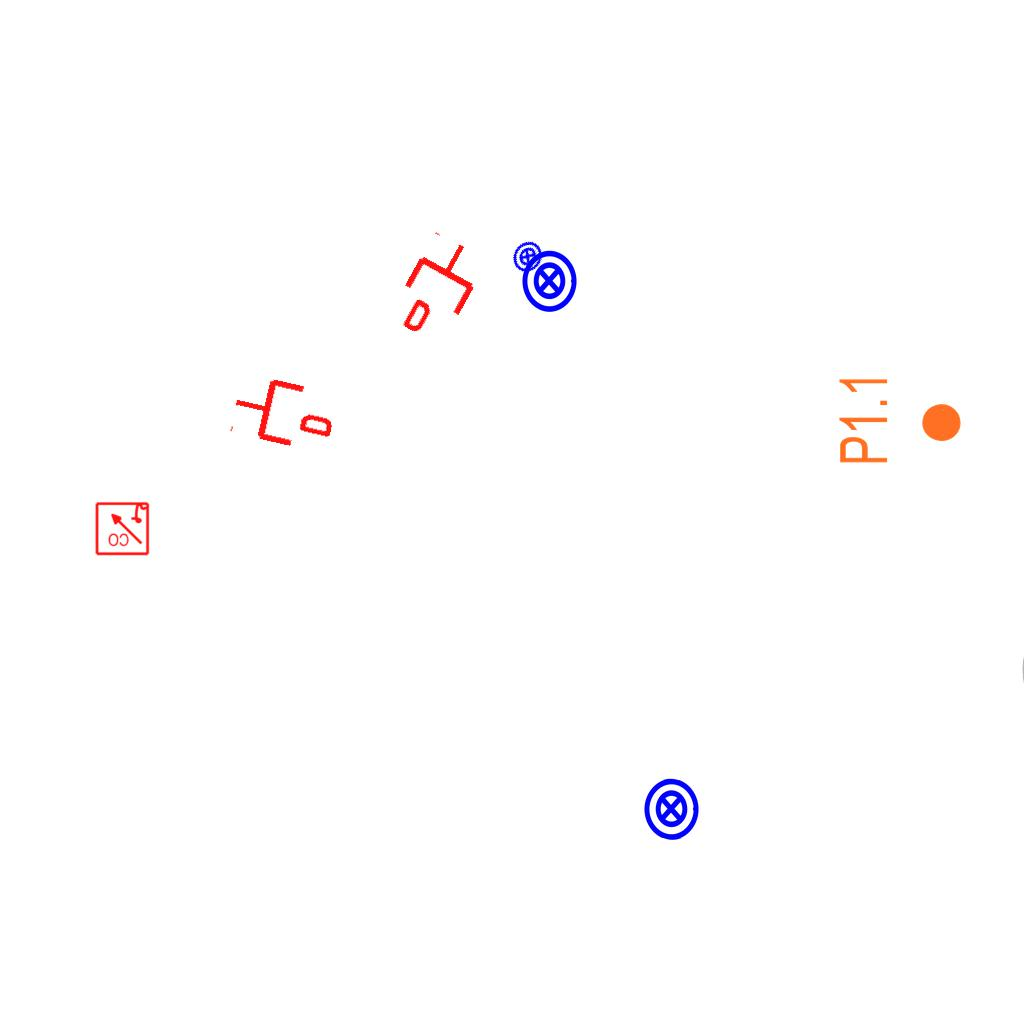Datenanschluss_einfach: (384, 227, 493, 349), (227, 368, 340, 458)
Downlight_LED_Einbauleuchten_Flur: (836, 373, 964, 466)
ROA_Rauchmelder_optisch_mit_Signalgeber_(Sockelsirene): (94, 500, 150, 556)
Taster_beleuchtet: (637, 775, 705, 843), (516, 248, 582, 314), (504, 233, 551, 280)
